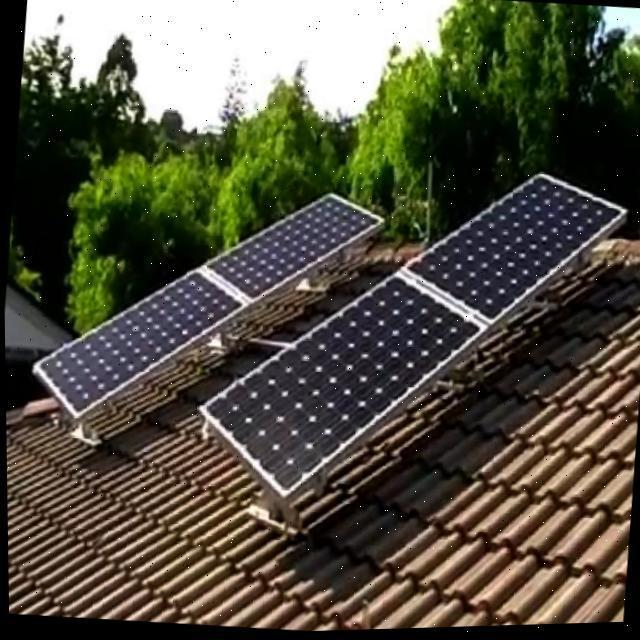Normal Solar Panel: (188, 147, 632, 536), (25, 170, 385, 443)
